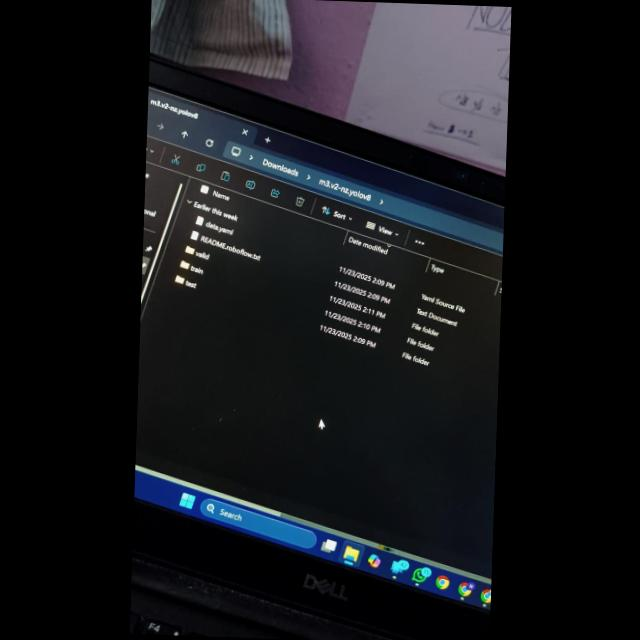laptop: (134, 48, 508, 638)
